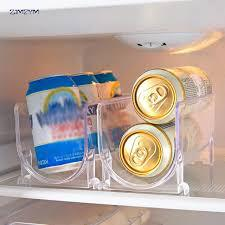beer: (25, 66, 216, 182)
